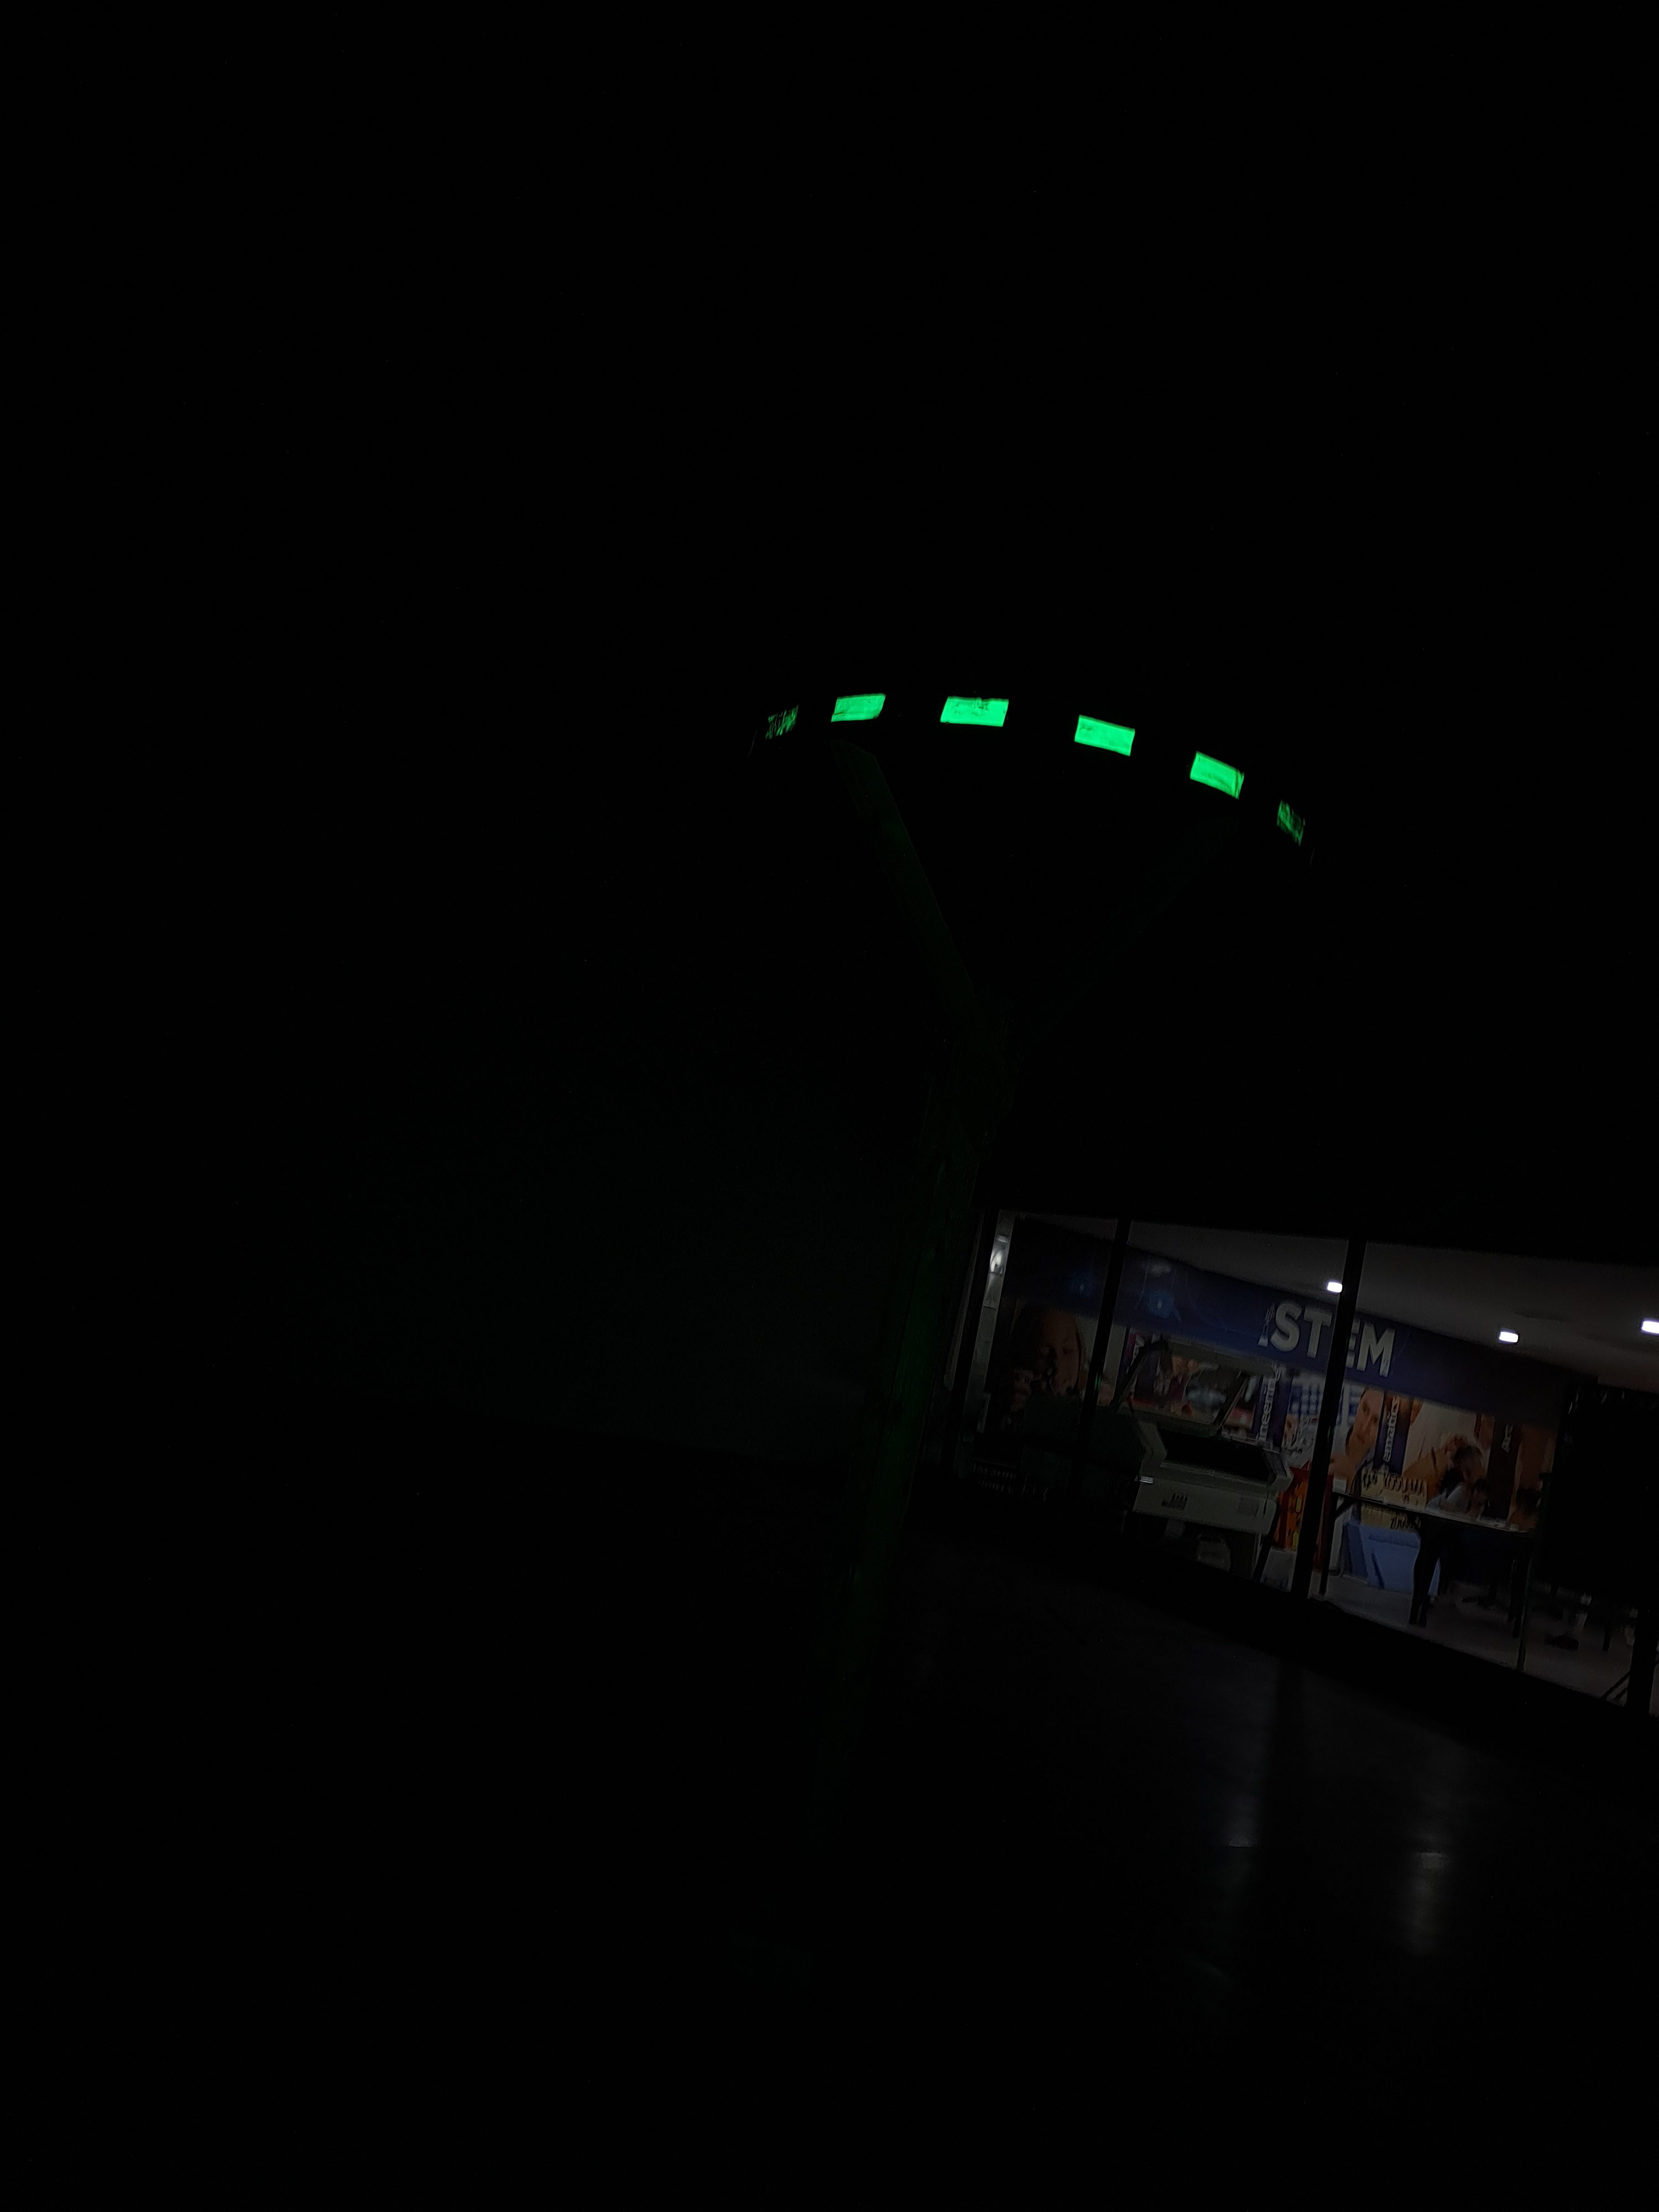hoop: (767, 690, 1309, 848)
